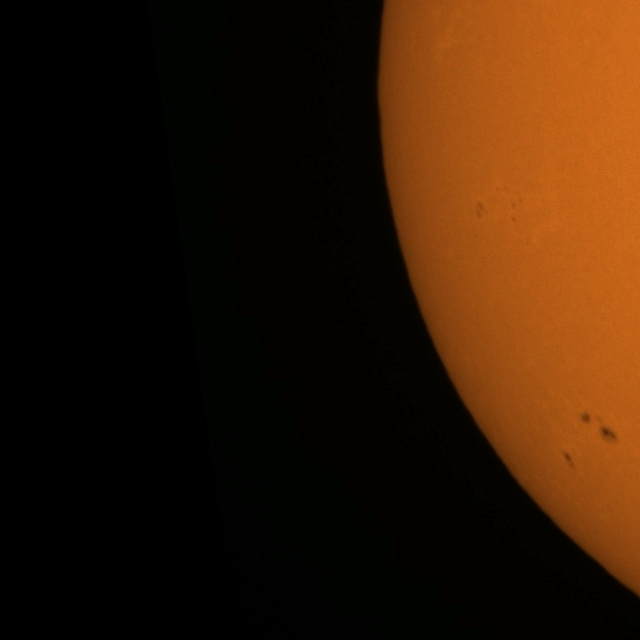sunspot: (578, 408, 620, 445), (599, 425, 619, 445), (562, 450, 576, 470), (474, 200, 486, 221), (578, 410, 592, 426), (511, 194, 522, 212)
